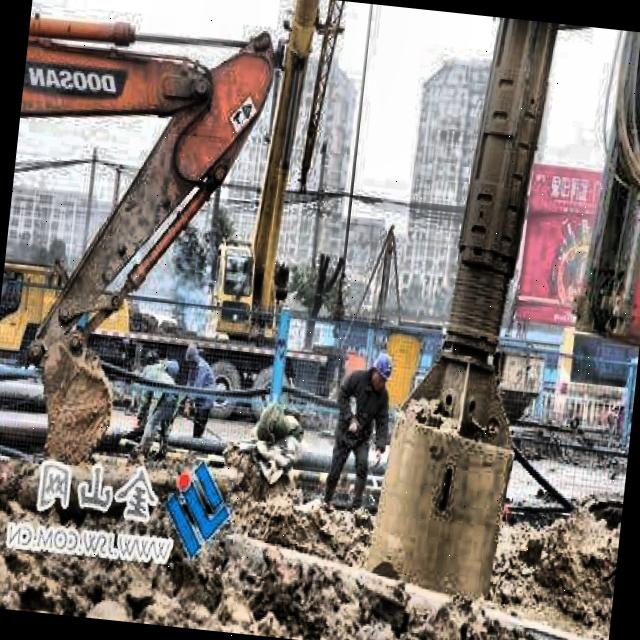helmet: (368, 348, 392, 394)
